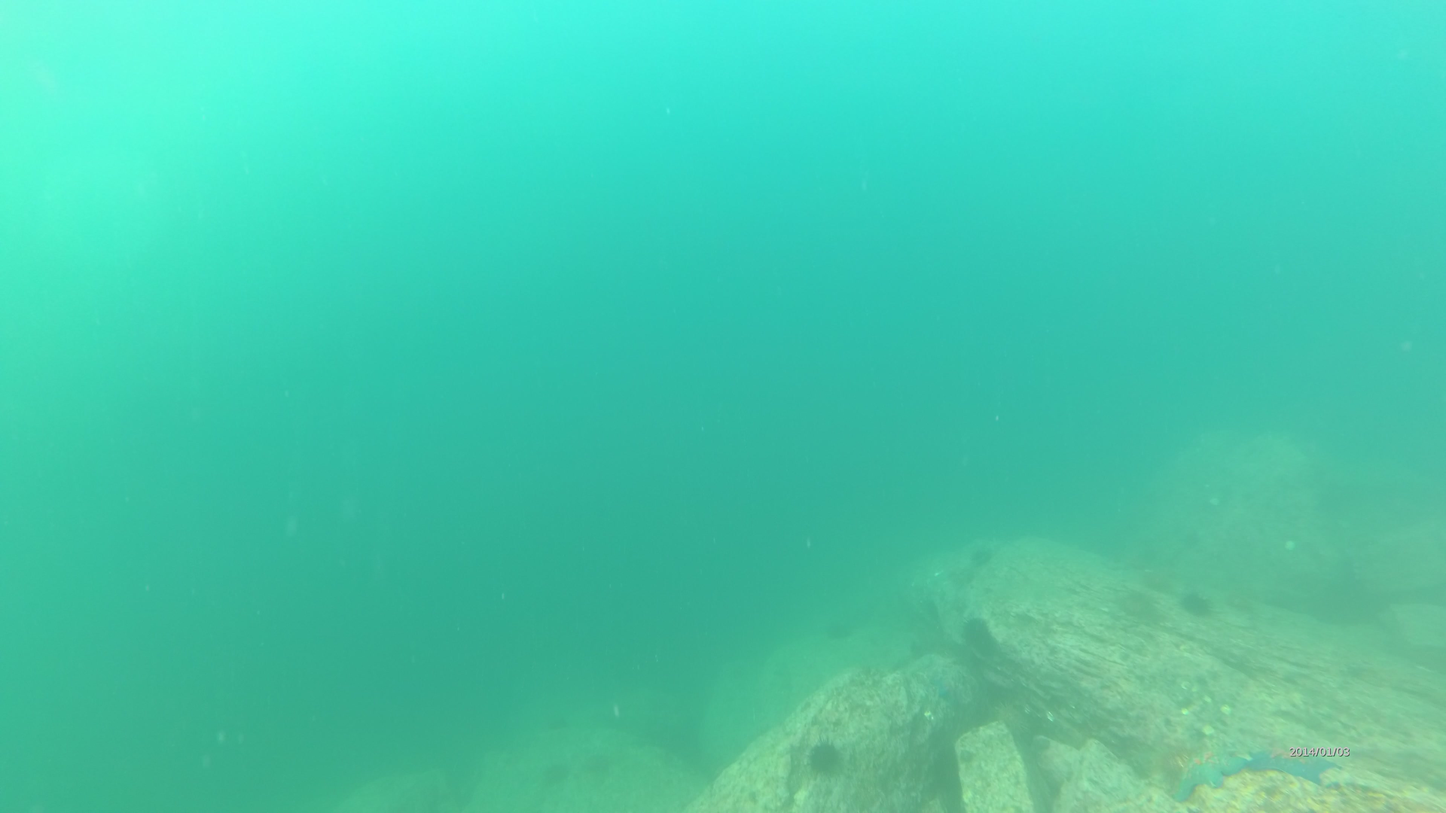holothurian: (1171, 748, 1245, 804), (1245, 742, 1339, 785)
starfish: (986, 695, 1033, 747), (1116, 588, 1163, 633), (955, 614, 996, 659), (1221, 580, 1264, 620), (539, 754, 576, 789), (1177, 588, 1215, 622), (807, 742, 845, 776), (968, 546, 996, 574)
